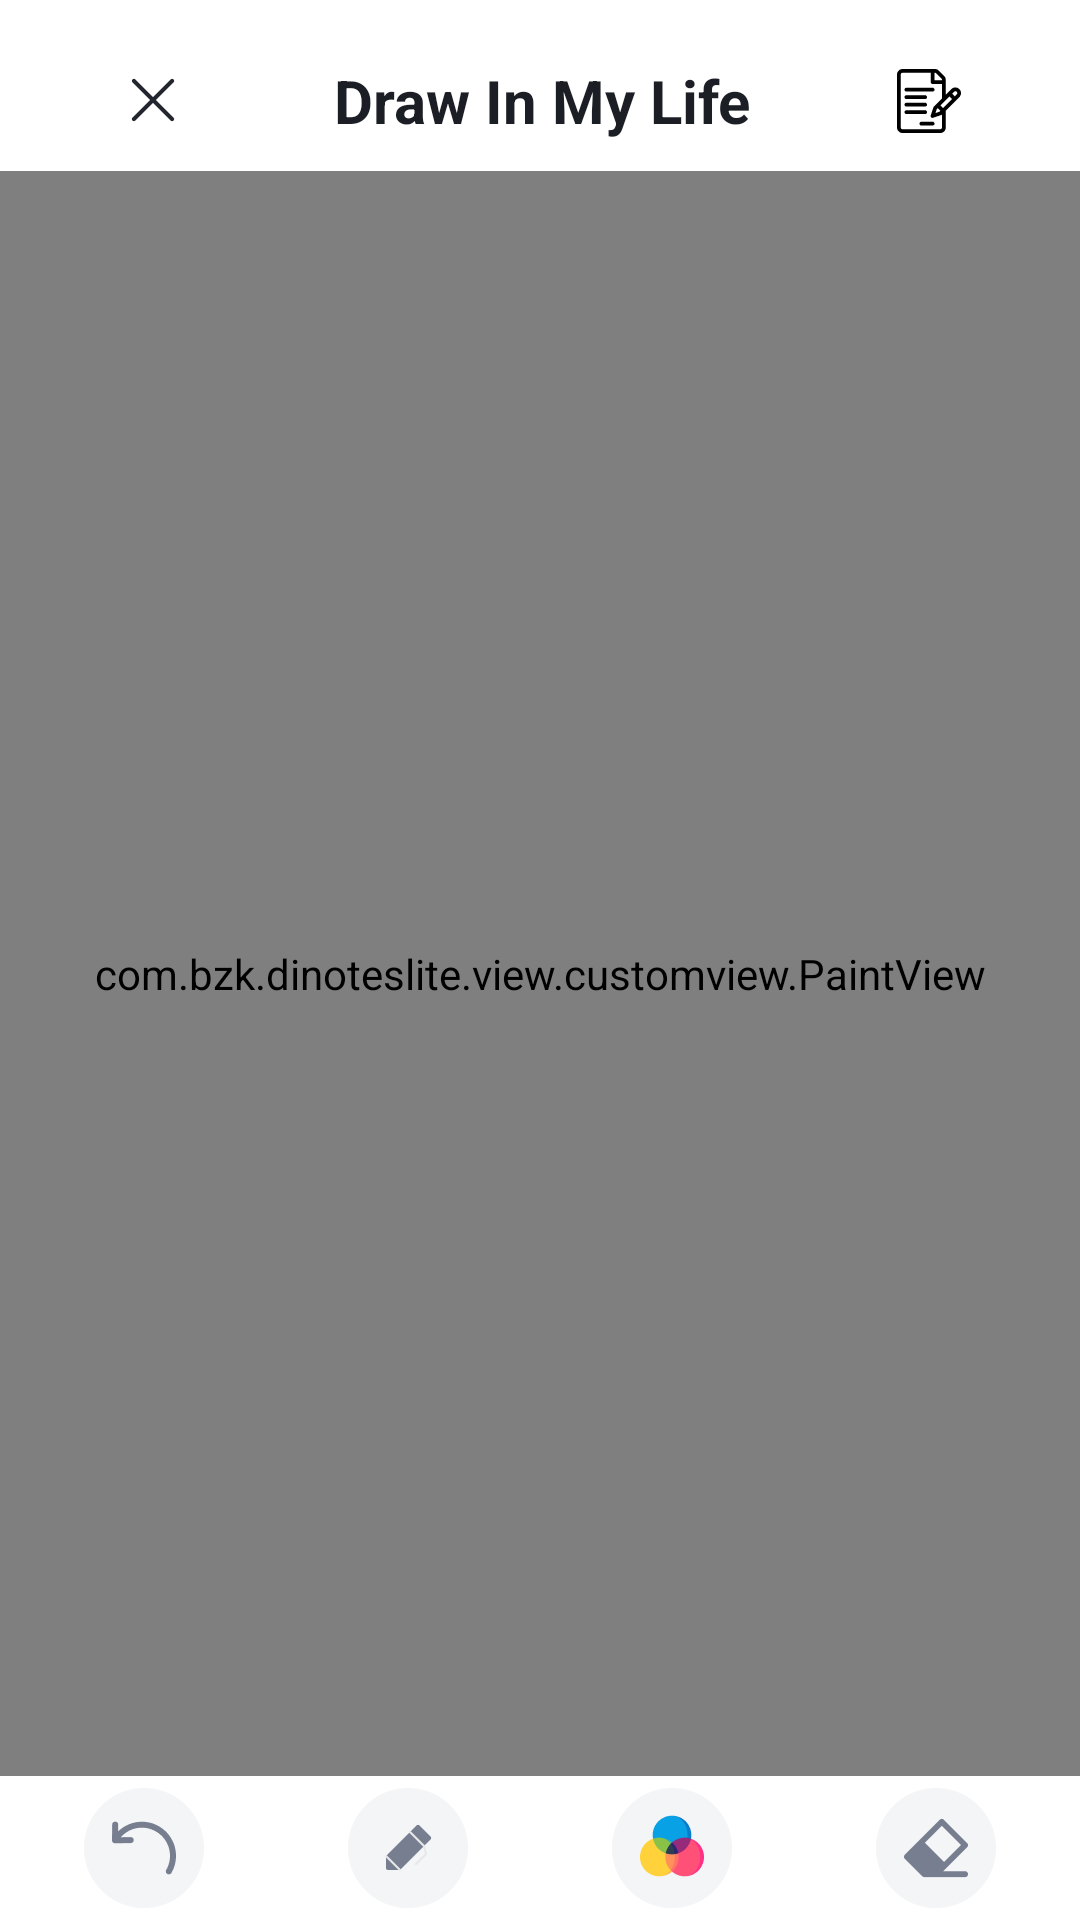

Where to tap for icons on this 1080×1920 app screen, as [x,y]:
cancel: [153,100]
draw back: [144,1848]
draw change: [672,1846]
draw eraser: [936,1848]
draw save: [929,101]
